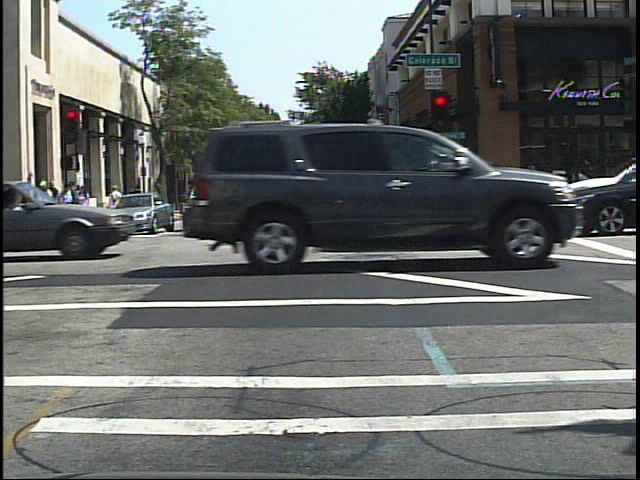person: (106, 180, 127, 228)
